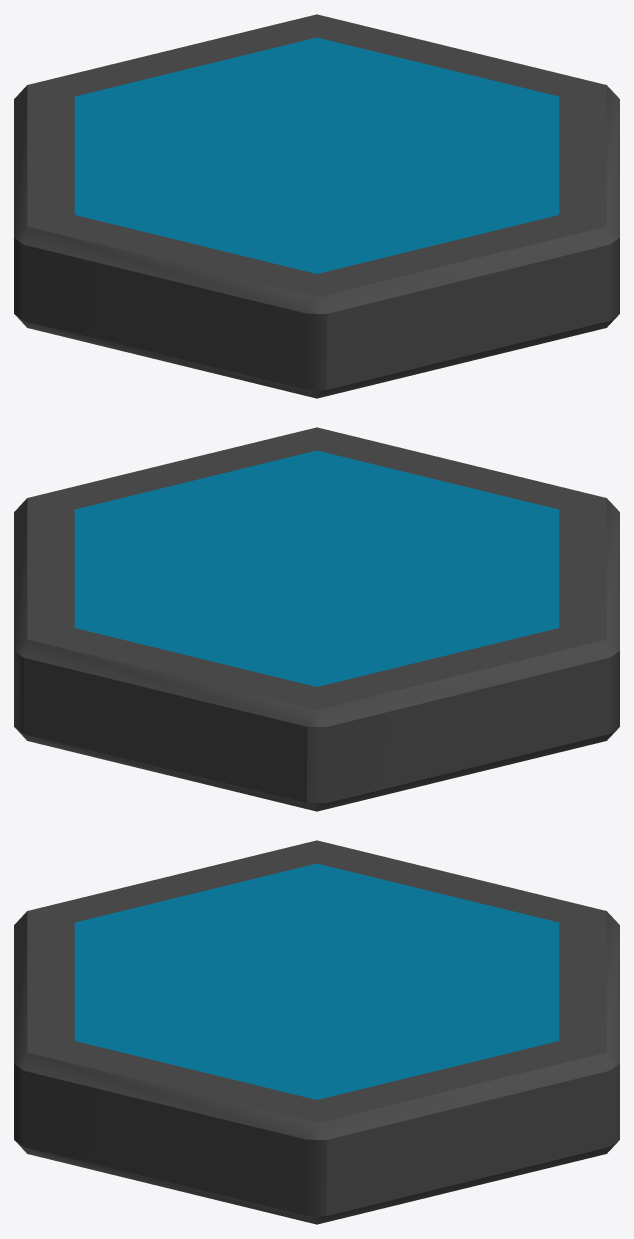
File: hex.fbx
3 renders of one model, top to bottom at view 1: azimuth 30°, elevation 25°; view 2: azimuth 150°, elevation 25°; view 3: azimuth 270°, elevation 25°, orthographic.
Visible parts, largest first — view 1: hex; view 2: hex; view 3: hex.
Boxes of the visible parts, x1=… form: hex: x1=14, y1=14, x2=619, y2=398; hex: x1=14, y1=427, x2=619, y2=811; hex: x1=14, y1=840, x2=619, y2=1224.
Bounding box in the file's own units: 1.97 × 0.32 × 1.73.
